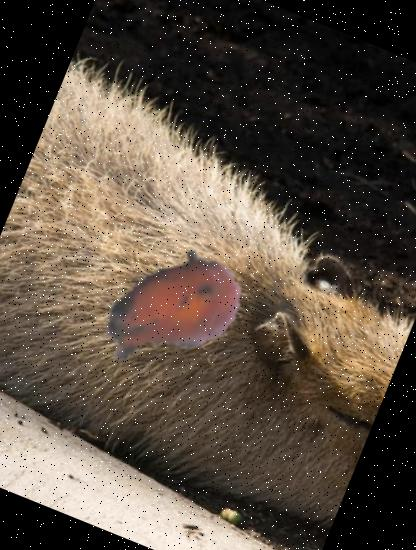Banana: (76, 207, 266, 397)
